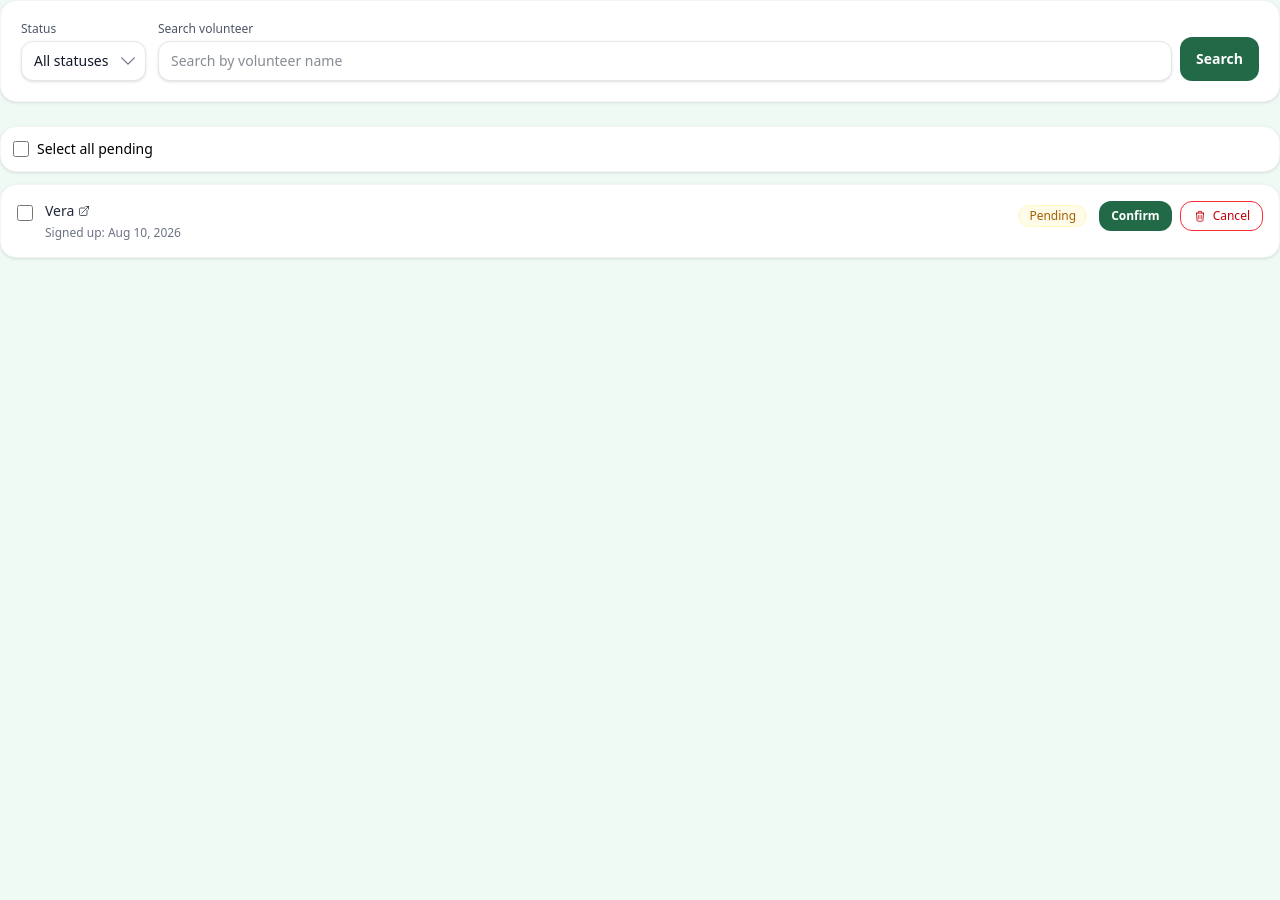
EngagementManagementPage confirm button (#2148 core journey) › moves a pending application to confirmed
Expected: the text "Pending" is shown, [1018,205,1087,227]
Click the button "Confirm" at (1135, 216), box [1099,201,1172,231]
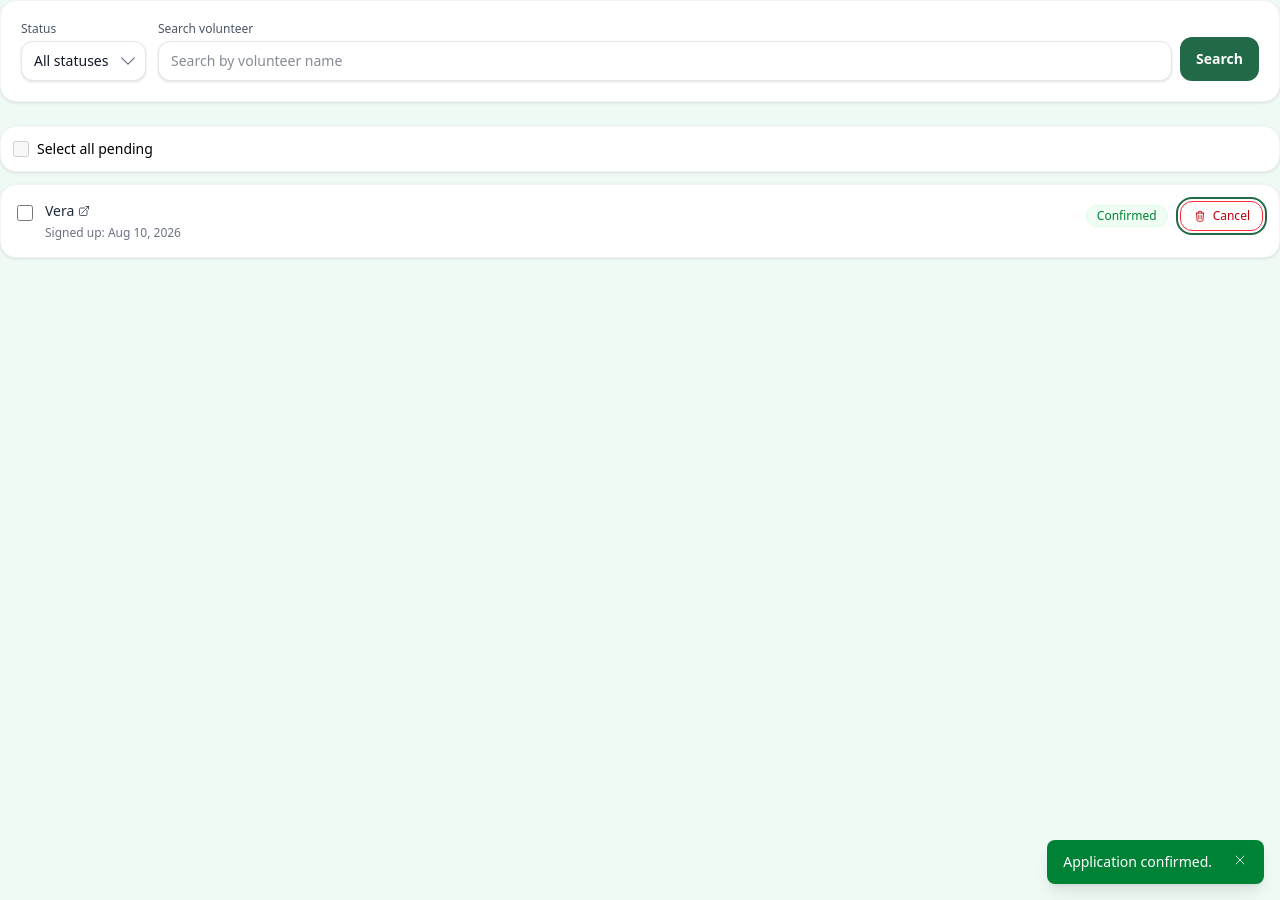
Result: the text "Confirmed" is shown at [1086,205,1168,227]
